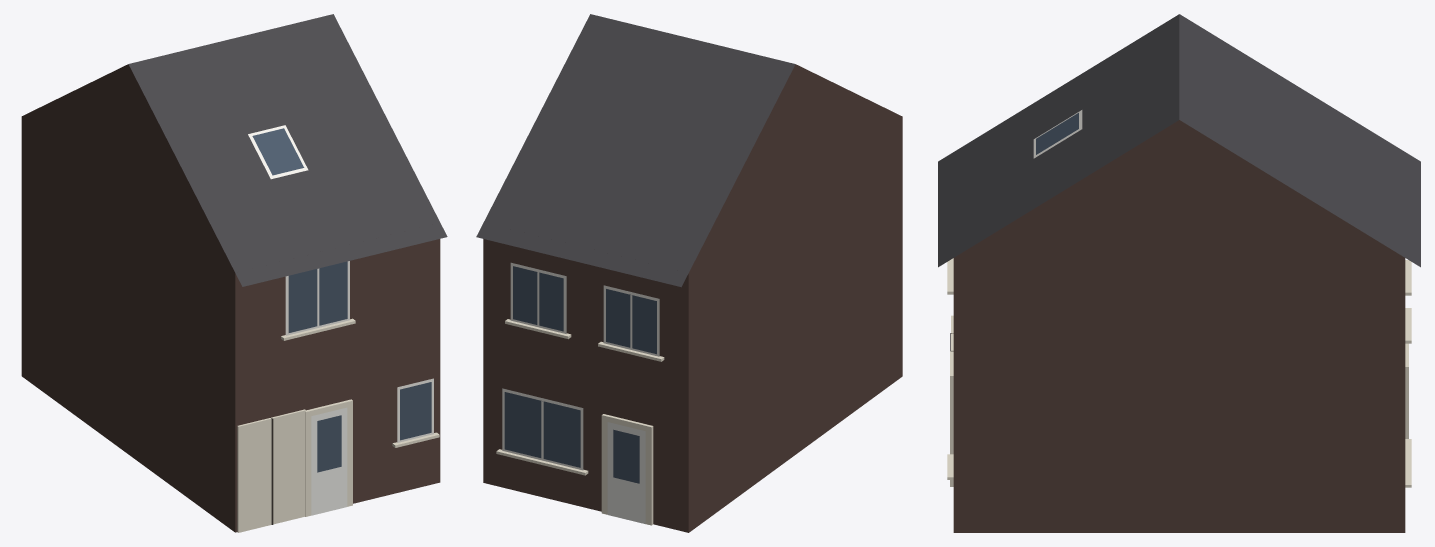
The model's file is nw-rowhouse-garage-door__white-slate__2__gable__long__solid.glb.
3 renders of one model, left to right at view 1: azimuth 30°, elevation 25°; view 2: azimuth 150°, elevation 25°; view 3: azimuth 270°, elevation 25°, orthographic. The views are drawn at different scales.
Visible parts, largest first — view 1: nw-rowhouse-garage-door__white-slate__2__gable__long__solid; view 2: nw-rowhouse-garage-door__white-slate__2__gable__long__solid; view 3: nw-rowhouse-garage-door__white-slate__2__gable__long__solid.
Part boxes in pixels (x1,y1,x2,y2): nw-rowhouse-garage-door__white-slate__2__gable__long__solid: (21, 14, 447, 532); nw-rowhouse-garage-door__white-slate__2__gable__long__solid: (476, 14, 902, 532); nw-rowhouse-garage-door__white-slate__2__gable__long__solid: (938, 14, 1420, 532).
Size of the model in its own units: 4.85 by 8.82 by 9.35.
